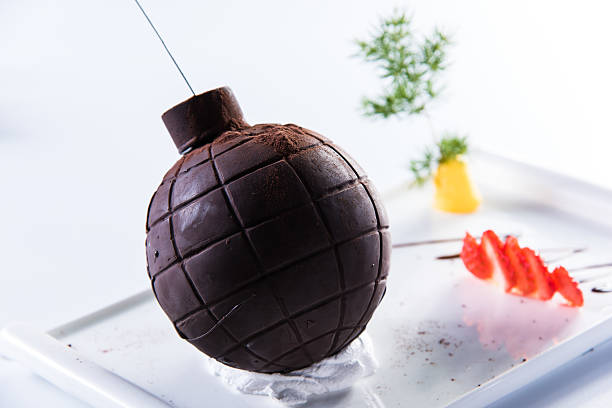e1: (142, 73, 389, 373)
